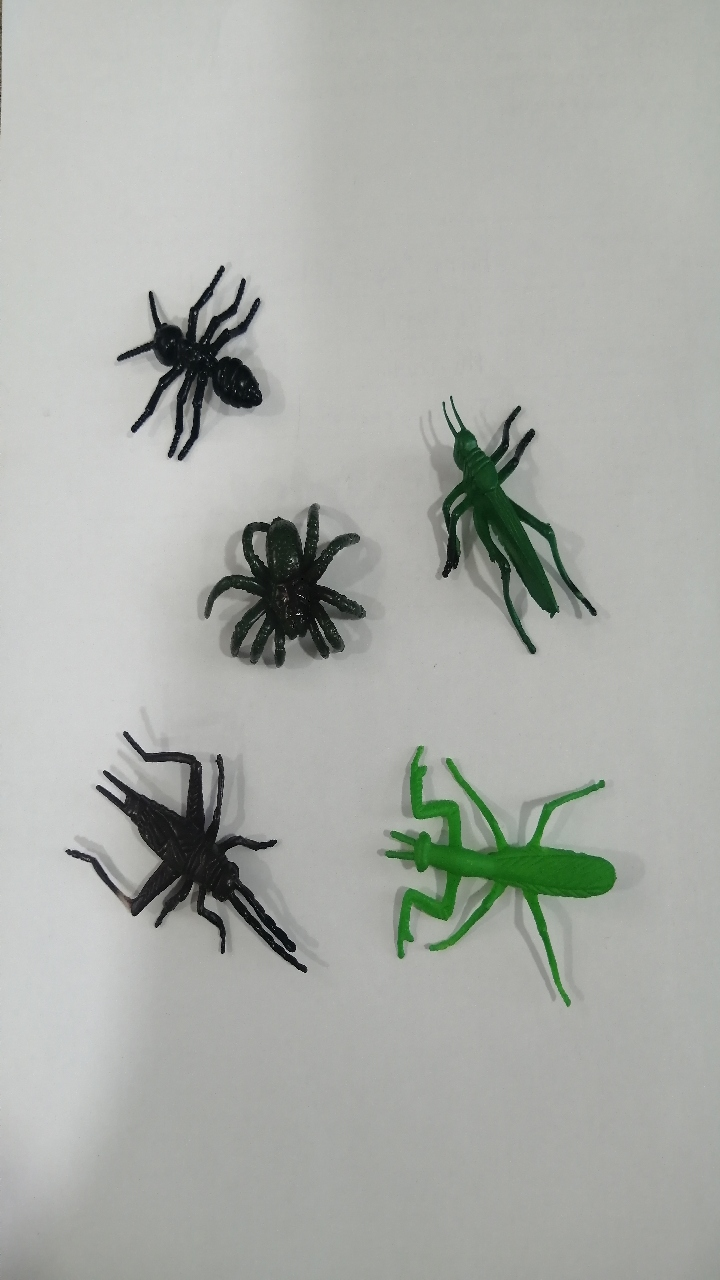intruso: (351, 711, 640, 1035), (38, 703, 317, 1002), (394, 368, 612, 672), (84, 237, 301, 475), (188, 477, 384, 695)
